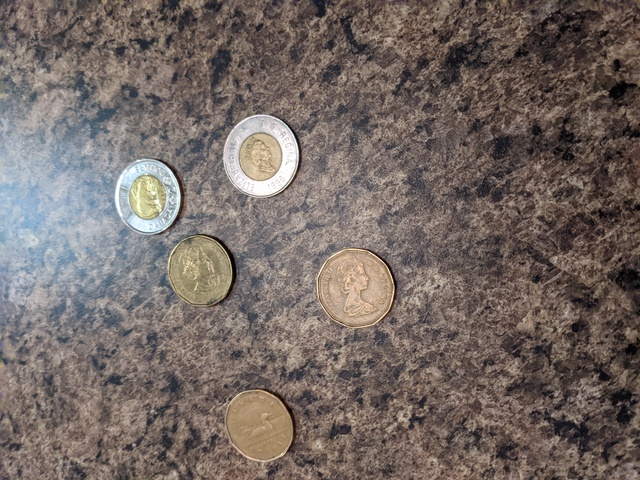loonie: (323, 247, 394, 339), (220, 390, 297, 468), (160, 227, 233, 301)
twonie: (215, 118, 316, 199), (110, 155, 181, 229)
